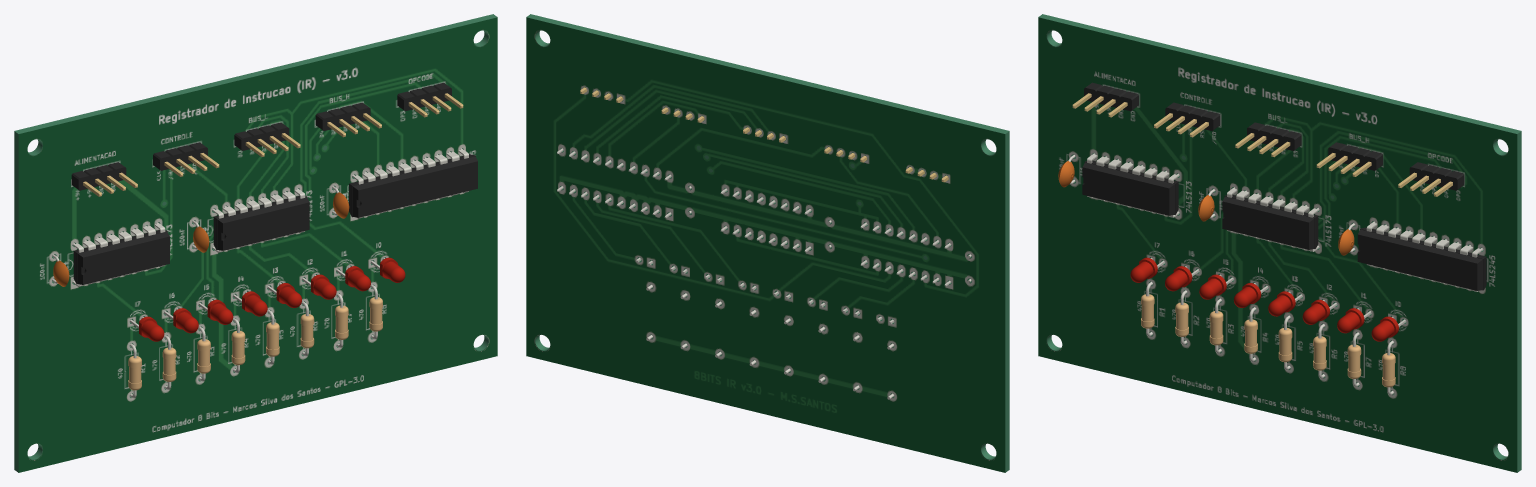
File: ir-registrador-instrucao.glb
The picture shows the model from 3 angles, left to right: view 1: azimuth 30°, elevation 25°; view 2: azimuth 150°, elevation 25°; view 3: azimuth 330°, elevation 25°; orthographic projection.
Visible parts, largest first — view 1: superficie_topo, =>[0:1:1:13], =>[0:1:1:14], =>[0:1:1:7]_1_c2458e, =>[0:1:1:7]_30ffde, =>[0:1:1:3]_2_9dc2cf, =>[0:1:1:3], =>[0:1:1:3]_4_67fc12, =>[0:1:1:3]_1_eb02c3, =>[0:1:1:3]_3_9655b2, =>[0:1:1:7]_1_a774ca, =>[0:1:1:7]_51f6e6; view 2: superficie_fundo, =>[0:1:1:14]; view 3: superficie_topo, =>[0:1:1:13], =>[0:1:1:14], =>[0:1:1:7]_1_c2458e, =>[0:1:1:7]_30ffde, =>[0:1:1:3]_4_67fc12, =>[0:1:1:3]_3_9655b2, =>[0:1:1:3]_1_eb02c3, =>[0:1:1:3]_2_9dc2cf, =>[0:1:1:3], =>[0:1:1:7]_51f6e6, =>[0:1:1:7]_1_a774ca.
Part boxes in pixels (x1,y1,x2,y2): superficie_topo: (18,17,497,472); =>[0:1:1:13]: (349,148,477,218); =>[0:1:1:14]: (14,14,497,472); =>[0:1:1:7]_1_c2458e: (213,195,309,250); =>[0:1:1:7]_30ffde: (73,230,169,284); =>[0:1:1:3]_2_9dc2cf: (234,122,289,150); =>[0:1:1:3]: (315,102,370,130); =>[0:1:1:3]_4_67fc12: (71,162,126,190); =>[0:1:1:3]_1_eb02c3: (397,82,451,111); =>[0:1:1:3]_3_9655b2: (153,142,207,170); =>[0:1:1:7]_1_a774ca: (212,188,305,252); =>[0:1:1:7]_51f6e6: (72,222,165,286); superficie_fundo: (526,17,1005,472); =>[0:1:1:14]: (526,14,1009,472); superficie_topo: (1038,17,1517,472); =>[0:1:1:13]: (1357,221,1486,291); =>[0:1:1:14]: (1038,14,1521,472); =>[0:1:1:7]_1_c2458e: (1222,194,1318,249); =>[0:1:1:7]_30ffde: (1082,160,1178,215); =>[0:1:1:3]_4_67fc12: (1084,82,1138,111); =>[0:1:1:3]_3_9655b2: (1165,102,1220,130); =>[0:1:1:3]_1_eb02c3: (1409,162,1464,190); =>[0:1:1:3]_2_9dc2cf: (1247,122,1301,150); =>[0:1:1:3]: (1328,142,1382,170); =>[0:1:1:7]_51f6e6: (1087,153,1179,217); =>[0:1:1:7]_1_a774ca: (1227,187,1319,251).
Size of the model in its own units: 0.1015 by 0.0686 by 0.0118.
8 materials, 2 textured.
